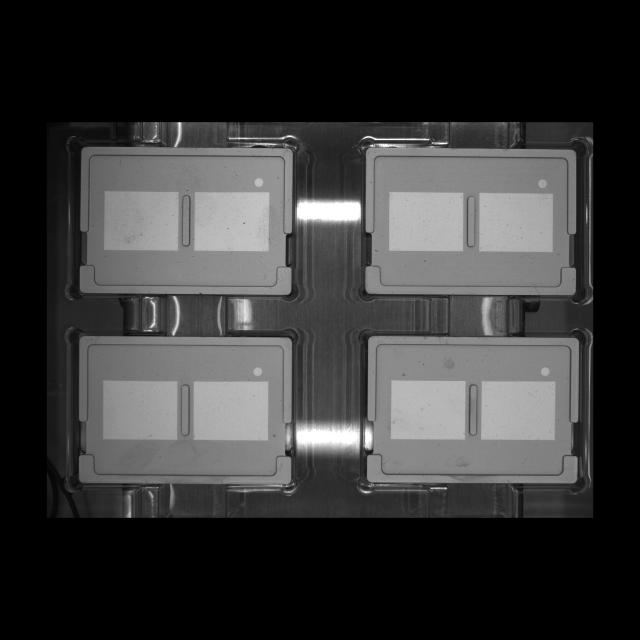product: (62, 132, 301, 302), (355, 133, 590, 305), (65, 326, 301, 496), (355, 327, 589, 497)
